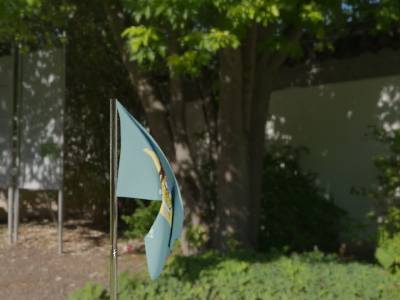Delaware flag: (114, 99, 185, 283)
